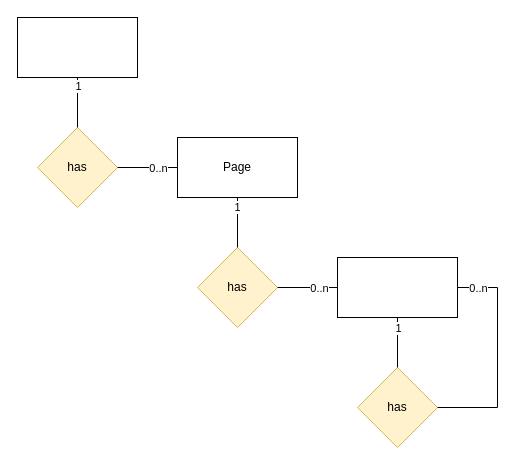
The diagram is 516 pixels wide and 465 high, and some of its shapes have lost their labels. Here are the shapes that lost their labels. From the top down, the centre of each, then its label:
At pixel 77 47: "Form Schema".
At pixel 397 287: "Element".
